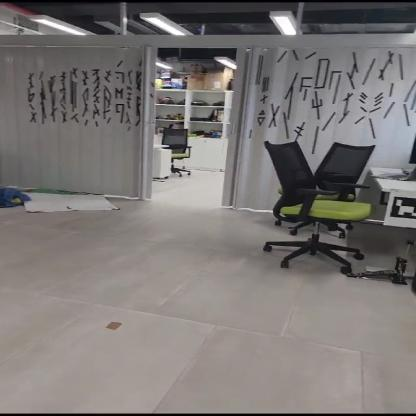open: (138, 48, 240, 204)
